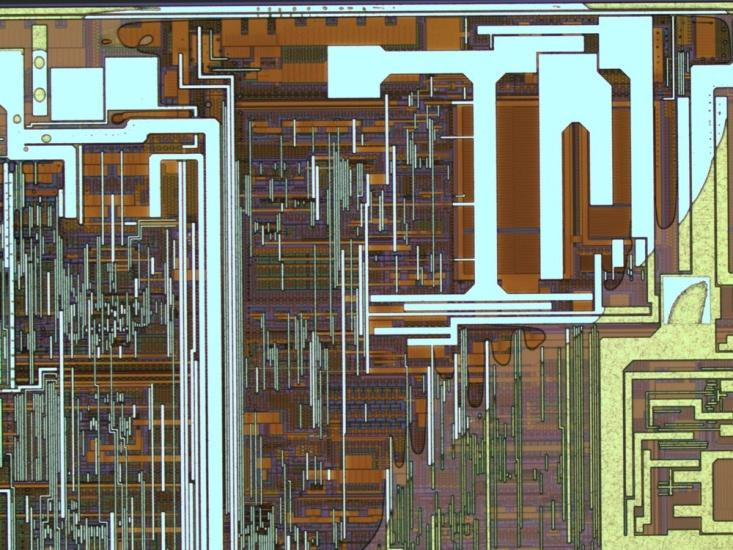COATING BAD: (1, 2, 733, 550)
